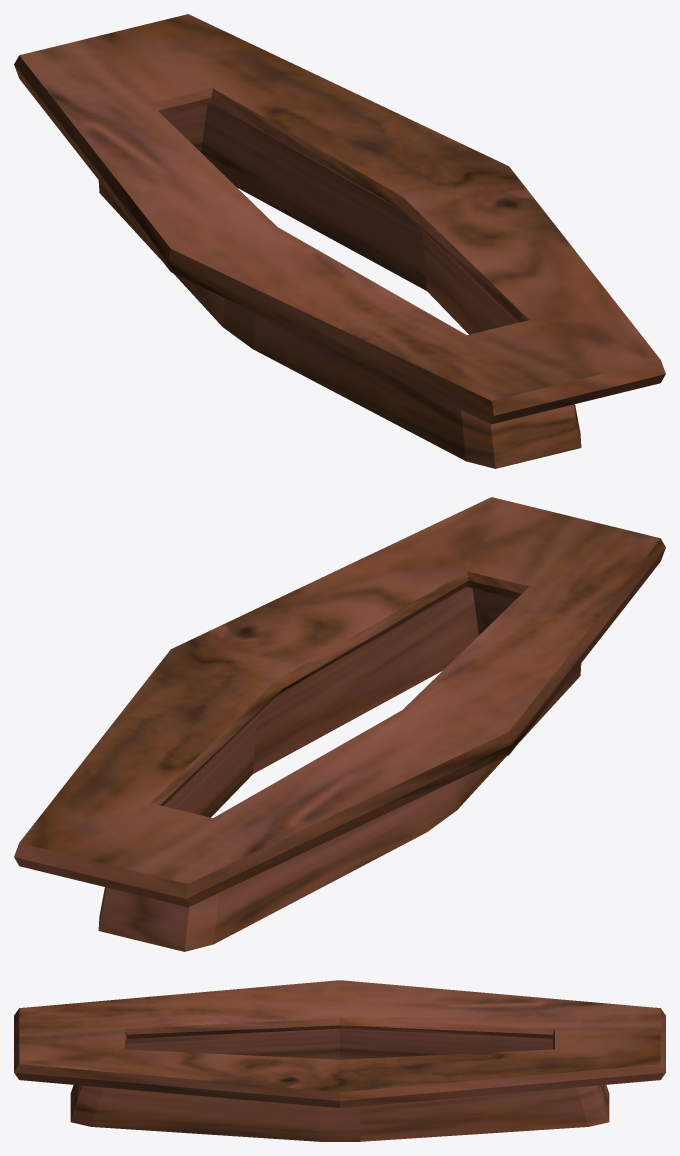
File: table.obj
The picture shows the model from 3 angles, top to bottom: view 1: azimuth 30°, elevation 25°; view 2: azimuth 150°, elevation 25°; view 3: azimuth 270°, elevation 25°; orthographic projection. The views are drawn at different scales.
Visible parts, largest first — view 1: Torus; view 2: Torus; view 3: Torus.
Part boxes in pixels (<box>): Torus: <box>14,14,665,468</box>; Torus: <box>14,497,665,951</box>; Torus: <box>14,980,665,1141</box>.
Size of the model in its own units: 2.29 by 0.6719 by 5.53.
